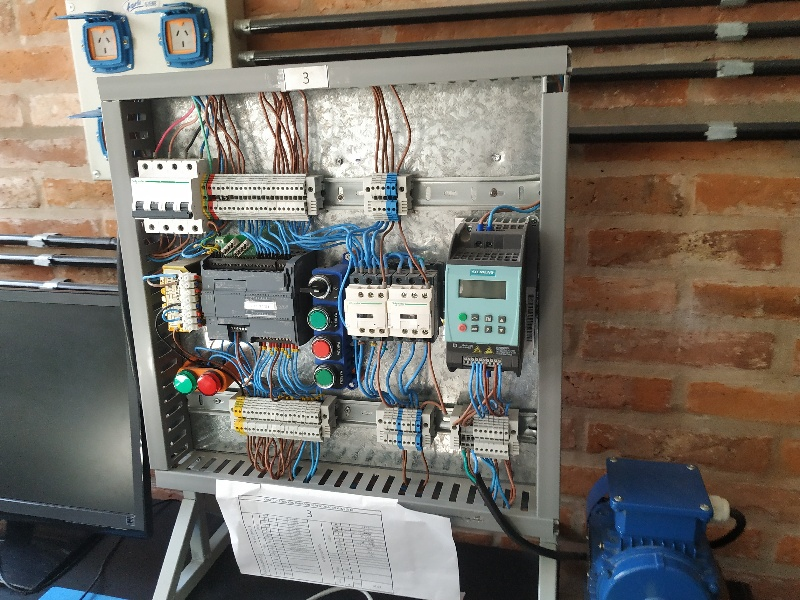Tablero 3: (129, 73, 555, 509)
